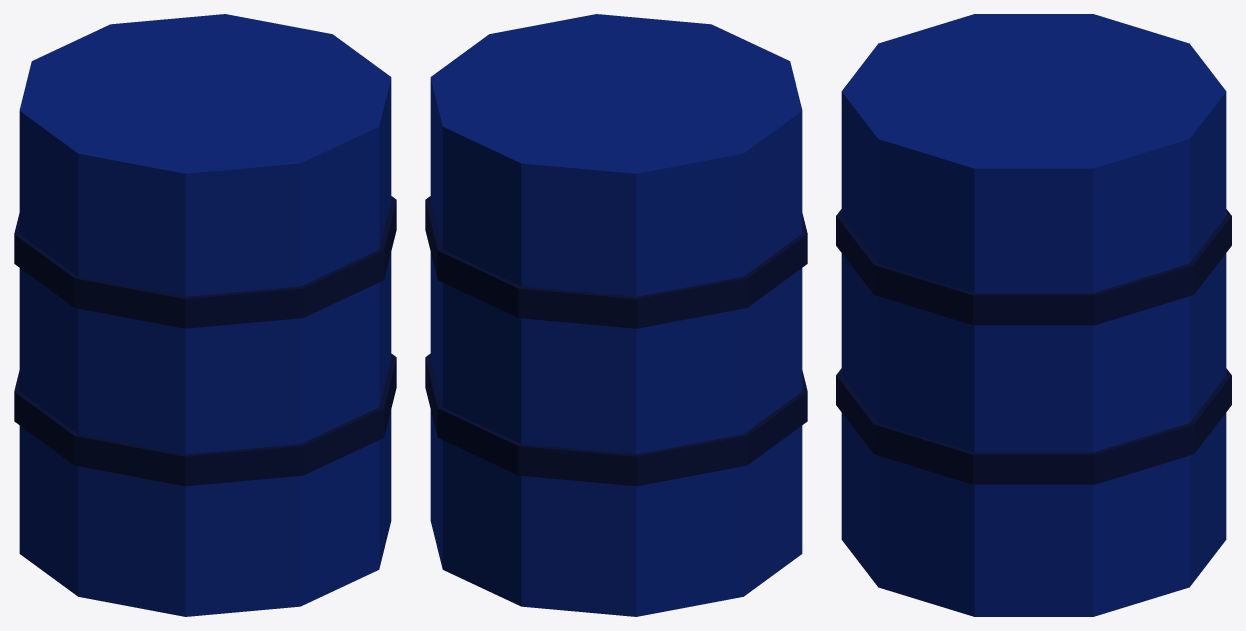
The model's file is barrel.glb.
3 views of the same model, side by side, from view 1: azimuth 30°, elevation 25°; view 2: azimuth 150°, elevation 25°; view 3: azimuth 270°, elevation 25° (orthographic).
Visible parts, largest first — view 1: barrel; view 2: barrel; view 3: barrel.
Part boxes in pixels (x1,y1,x2,y2): barrel: (14, 14, 396, 616); barrel: (425, 14, 807, 616); barrel: (836, 14, 1231, 616).
Bounding box in the file's own units: 0.6848 × 0.9 × 0.72.
